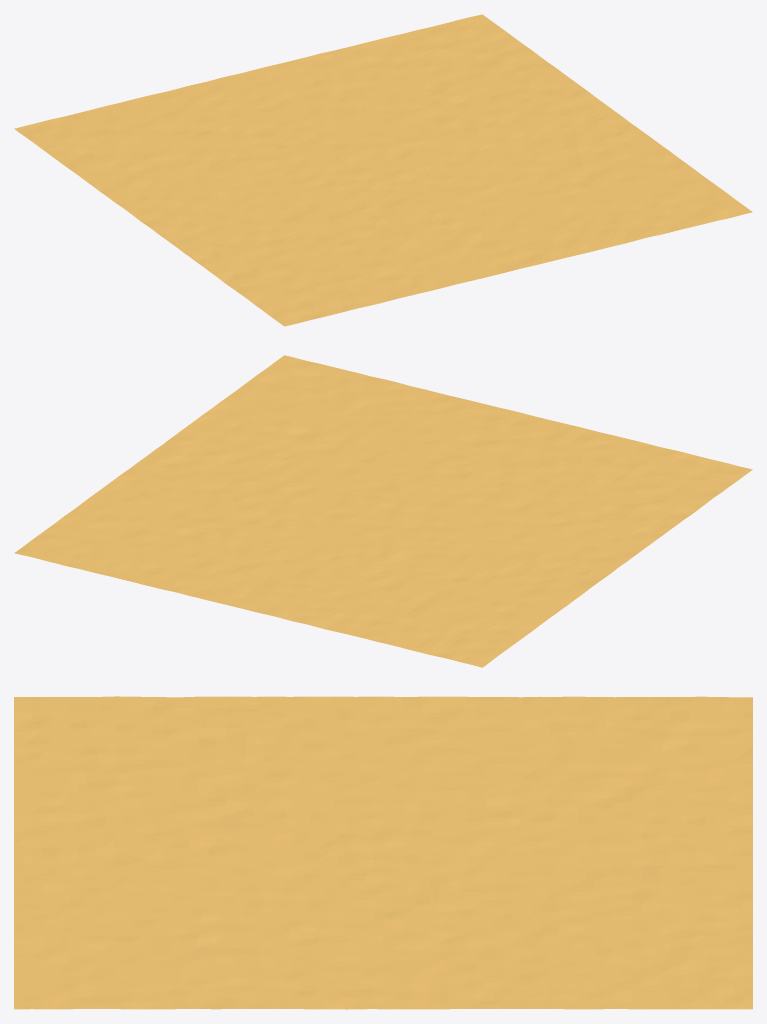
File: GroundDirt.fbx
3 renders of one model, top to bottom at view 1: azimuth 30°, elevation 25°; view 2: azimuth 150°, elevation 25°; view 3: azimuth 270°, elevation 25°, orthographic. The views are drawn at different scales.
Visible parts, largest first — view 1: Plane; view 2: Plane; view 3: Plane.
Part boxes in pixels (box(x1,y1,x2,y2)): Plane: box(14, 14, 752, 326); Plane: box(14, 355, 752, 667); Plane: box(14, 696, 752, 1009).
Bounding box in the file's own units: 1000 × 1.58 × 1000.
